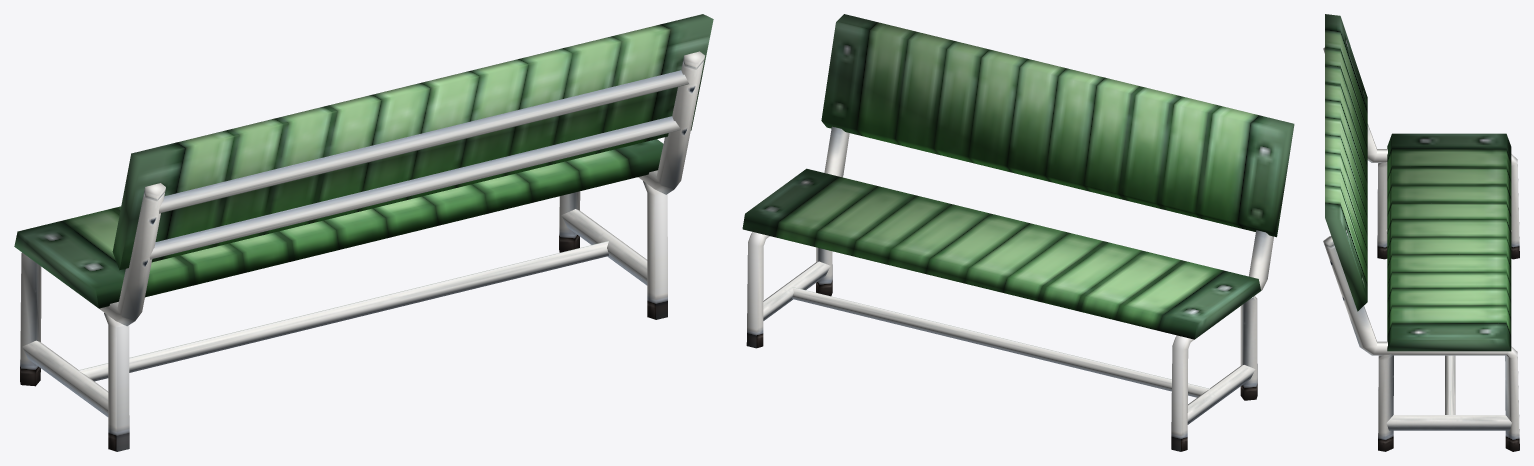
Rendered from c_SEbench02.glb.
The picture shows the model from 3 angles, left to right: view 1: azimuth 30°, elevation 25°; view 2: azimuth 150°, elevation 25°; view 3: azimuth 270°, elevation 25°; orthographic projection. The views are drawn at different scales.
Parts seen in each view (by area): view 1: c_SEbench02; view 2: c_SEbench02; view 3: c_SEbench02.
Part boxes in pixels (bbox=[...]): c_SEbench02: bbox=[14, 14, 713, 451]; c_SEbench02: bbox=[742, 14, 1294, 451]; c_SEbench02: bbox=[1323, 14, 1519, 451].
Bounding box in the file's own units: 1.66 × 0.8919 × 0.6748.
1 material, 1 textured.
